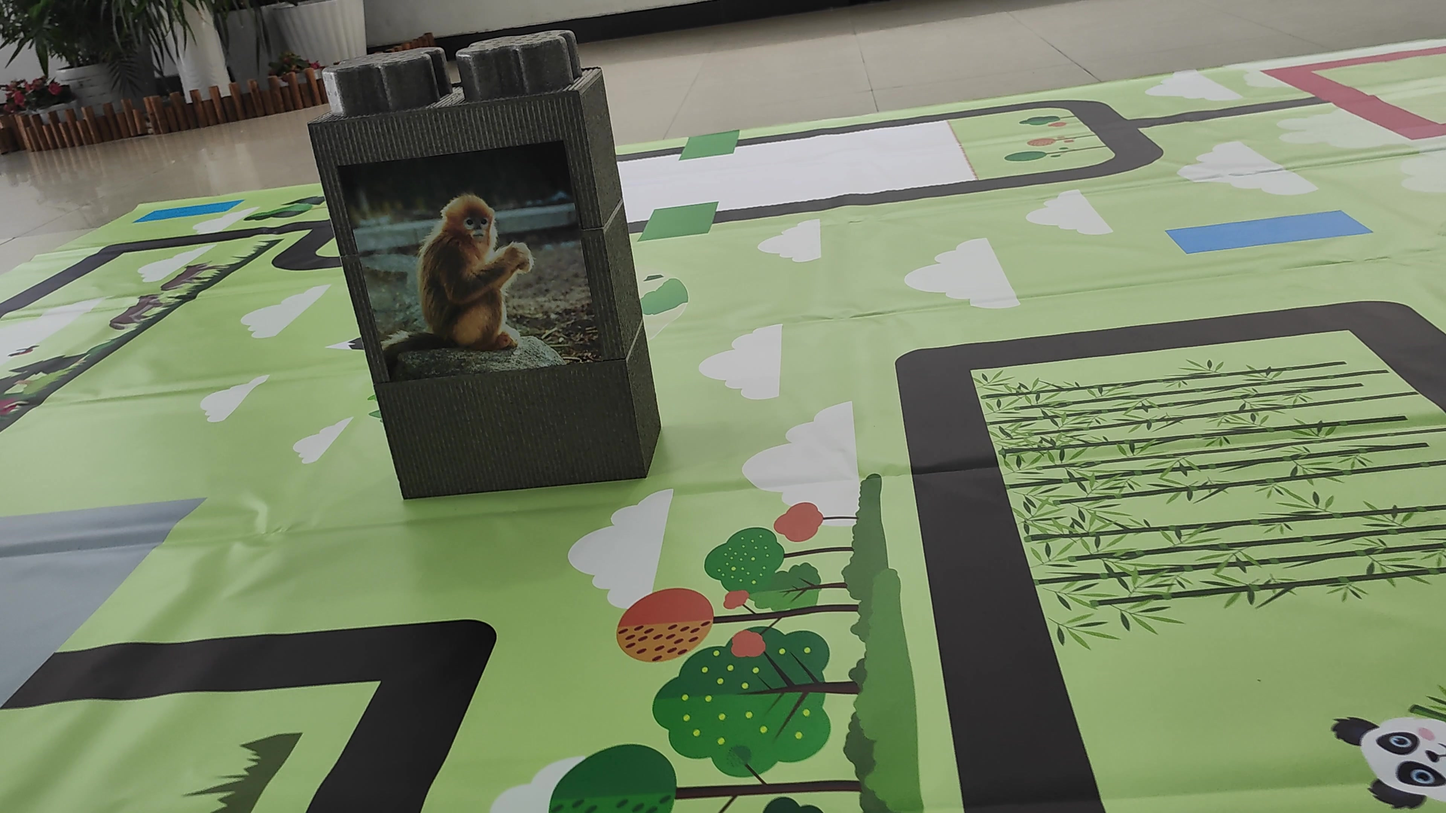monkey: (356, 152, 592, 373)
